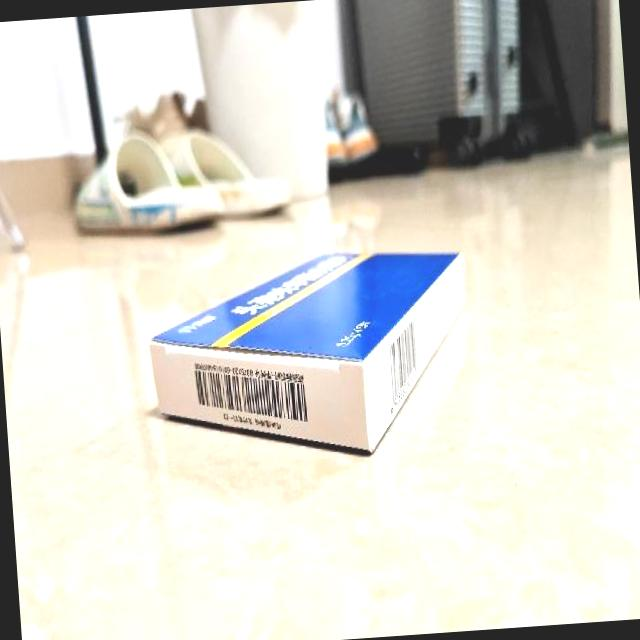box: (145, 242, 478, 468)
